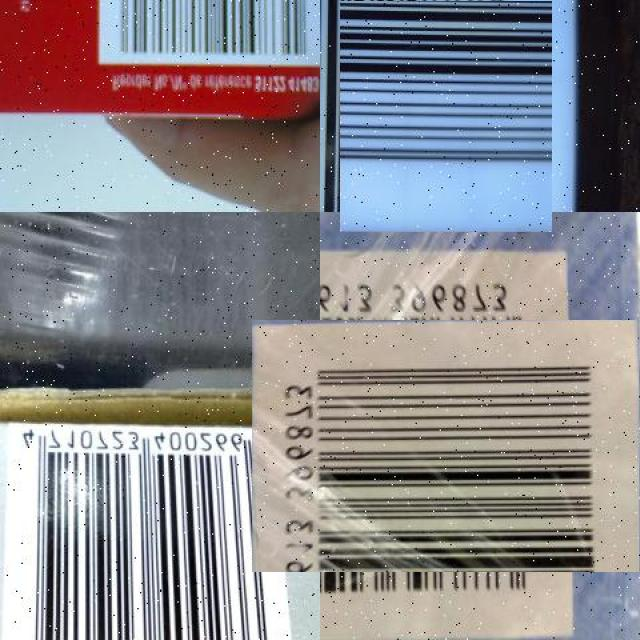Barcode: (286, 285, 606, 606), (0, 427, 293, 640), (330, 0, 562, 223), (96, 0, 320, 67)
